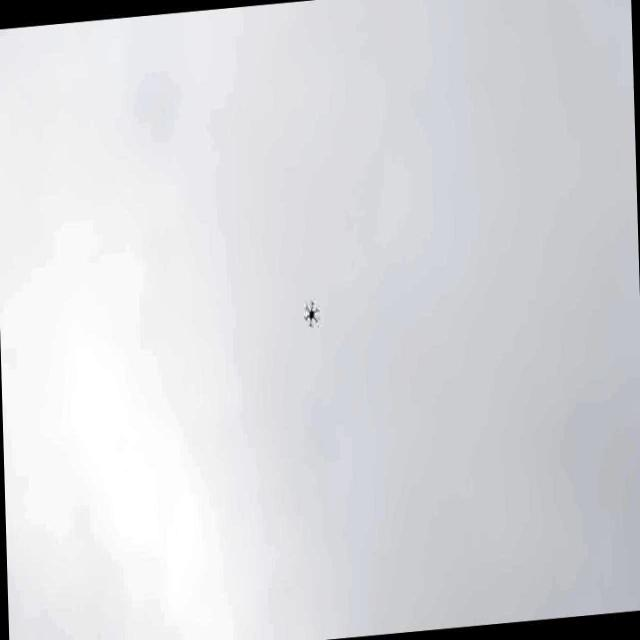drone: (297, 289, 323, 334)
